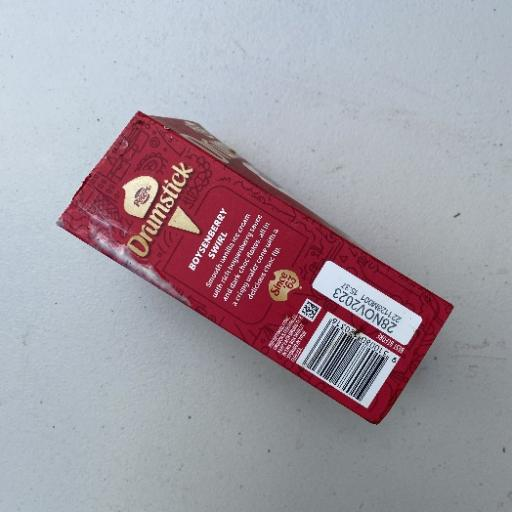Cardboard: (55, 109, 455, 426)
